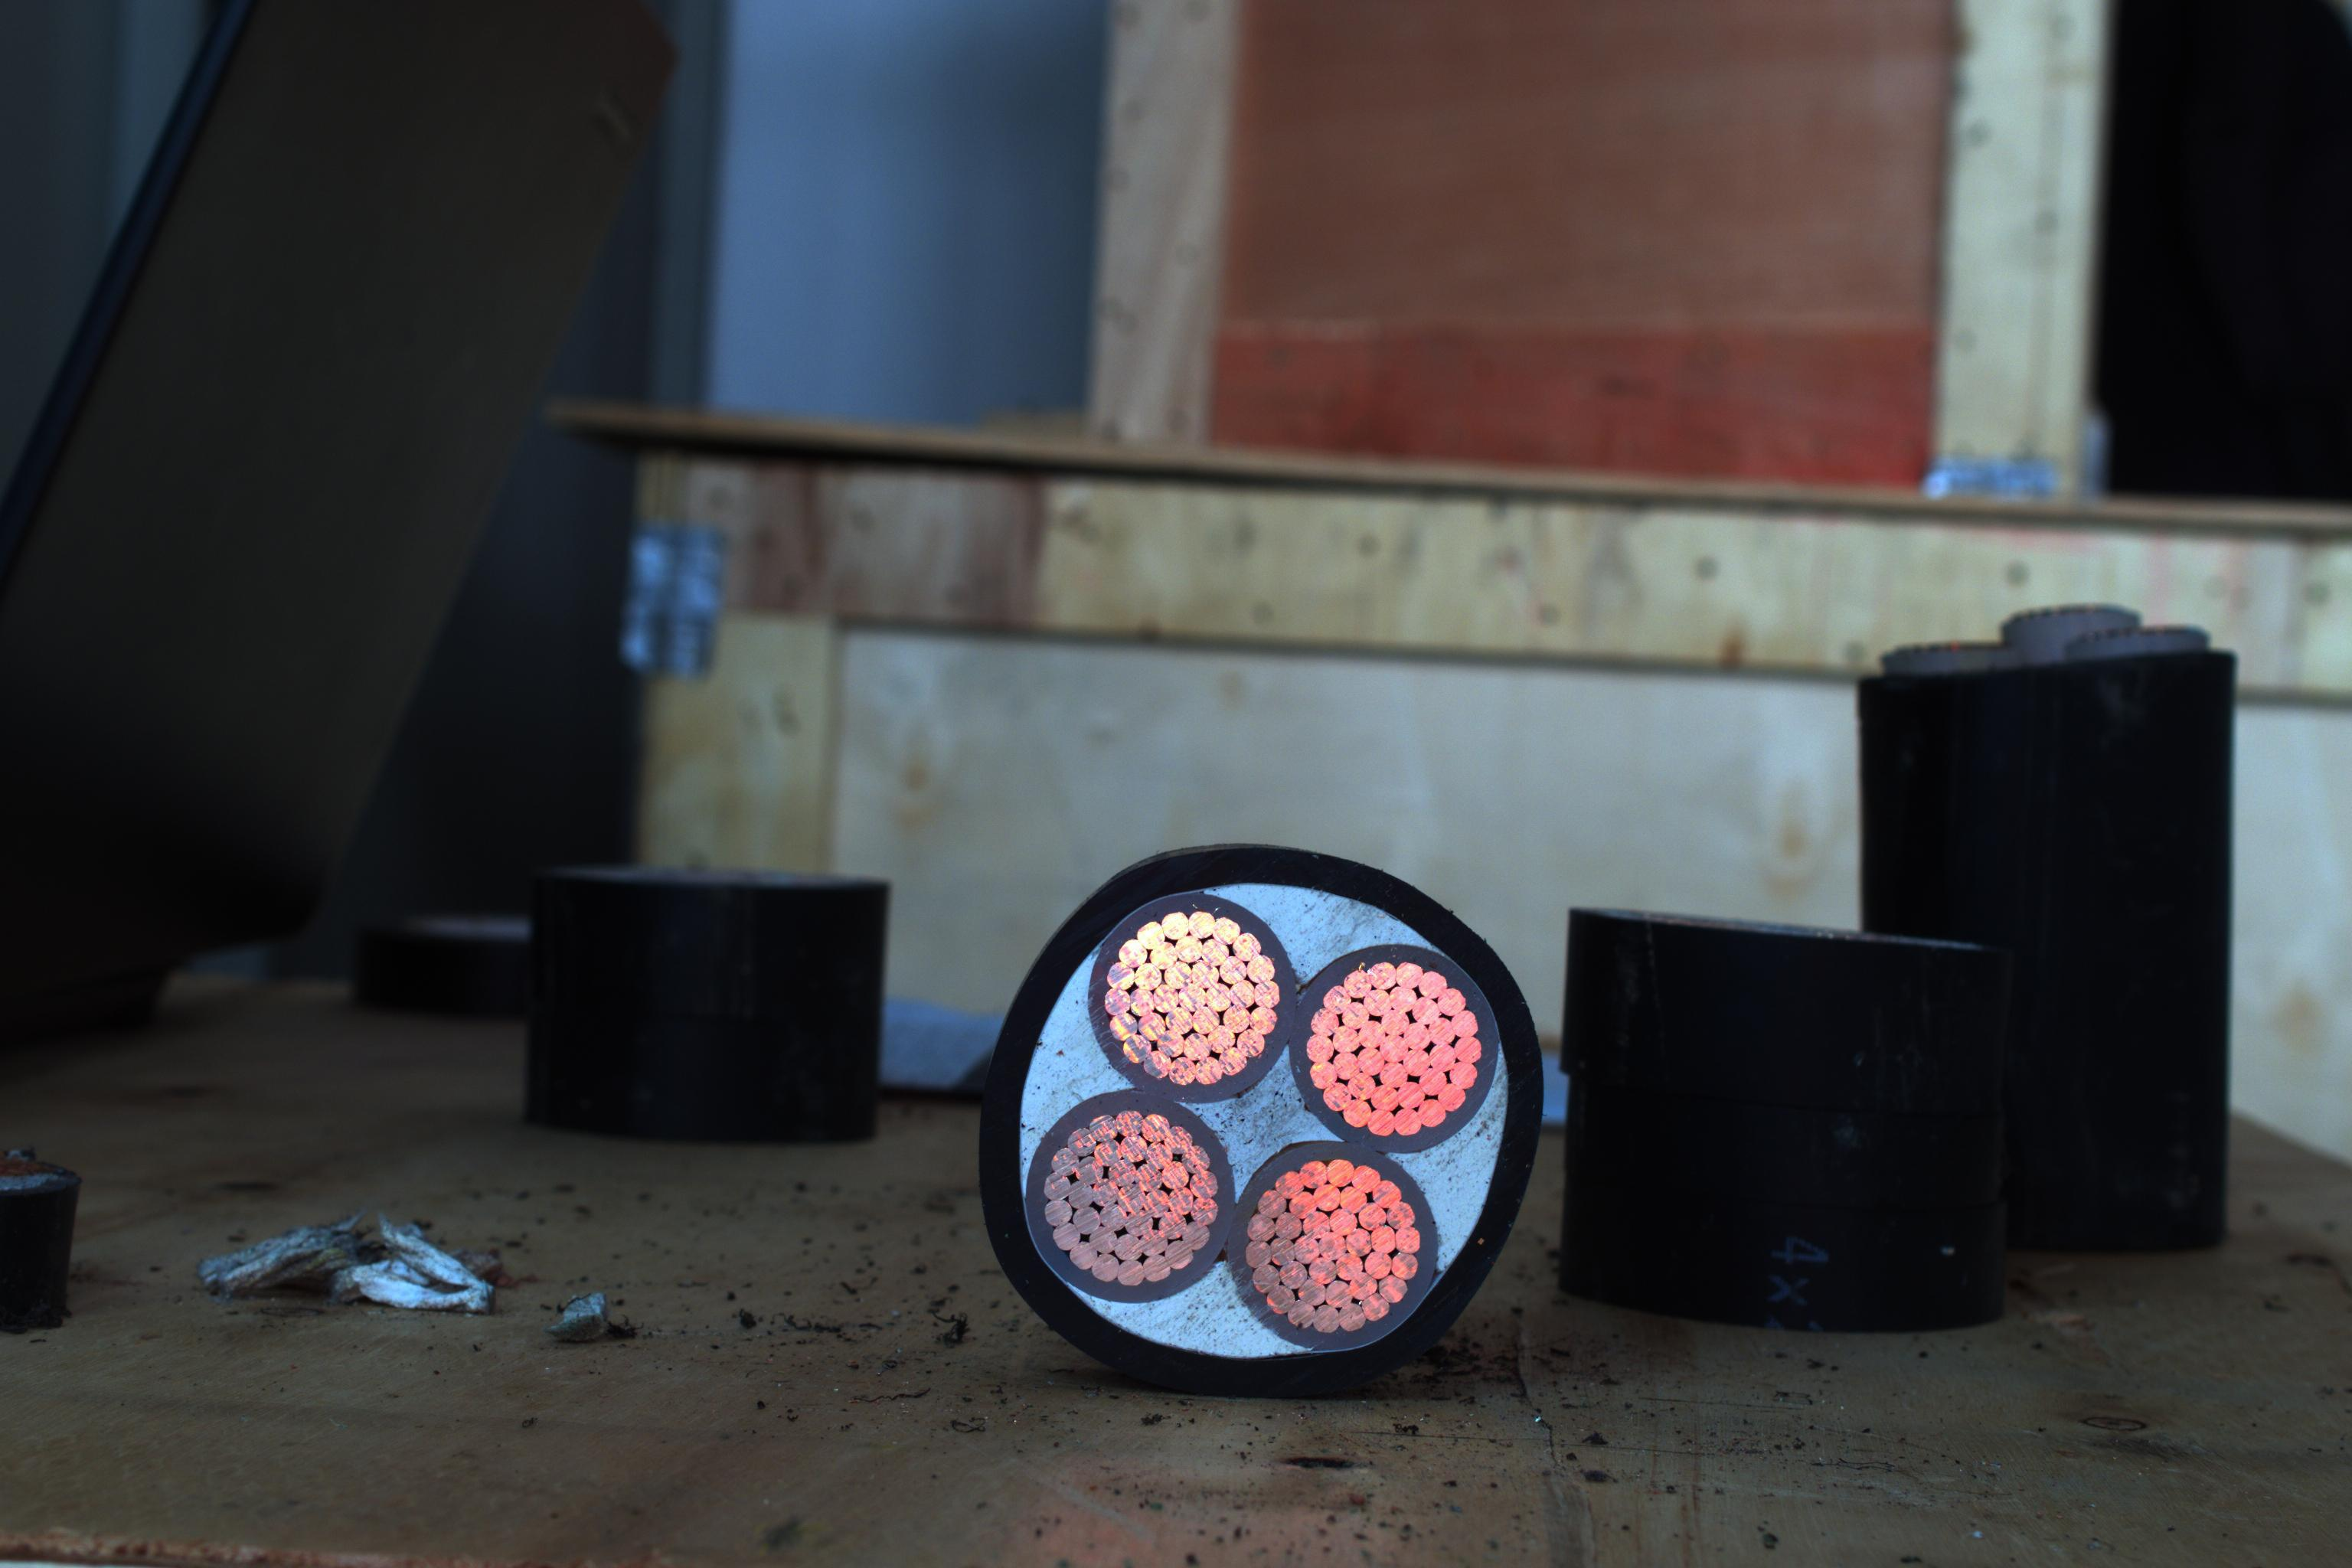YJV_0.6_1kV_4x240: (980, 840, 1528, 1379)
